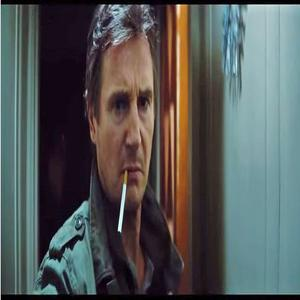cigarette: (116, 171, 128, 235)
